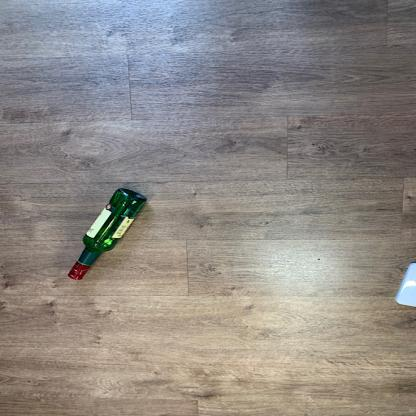trash: (68, 187, 150, 284)
